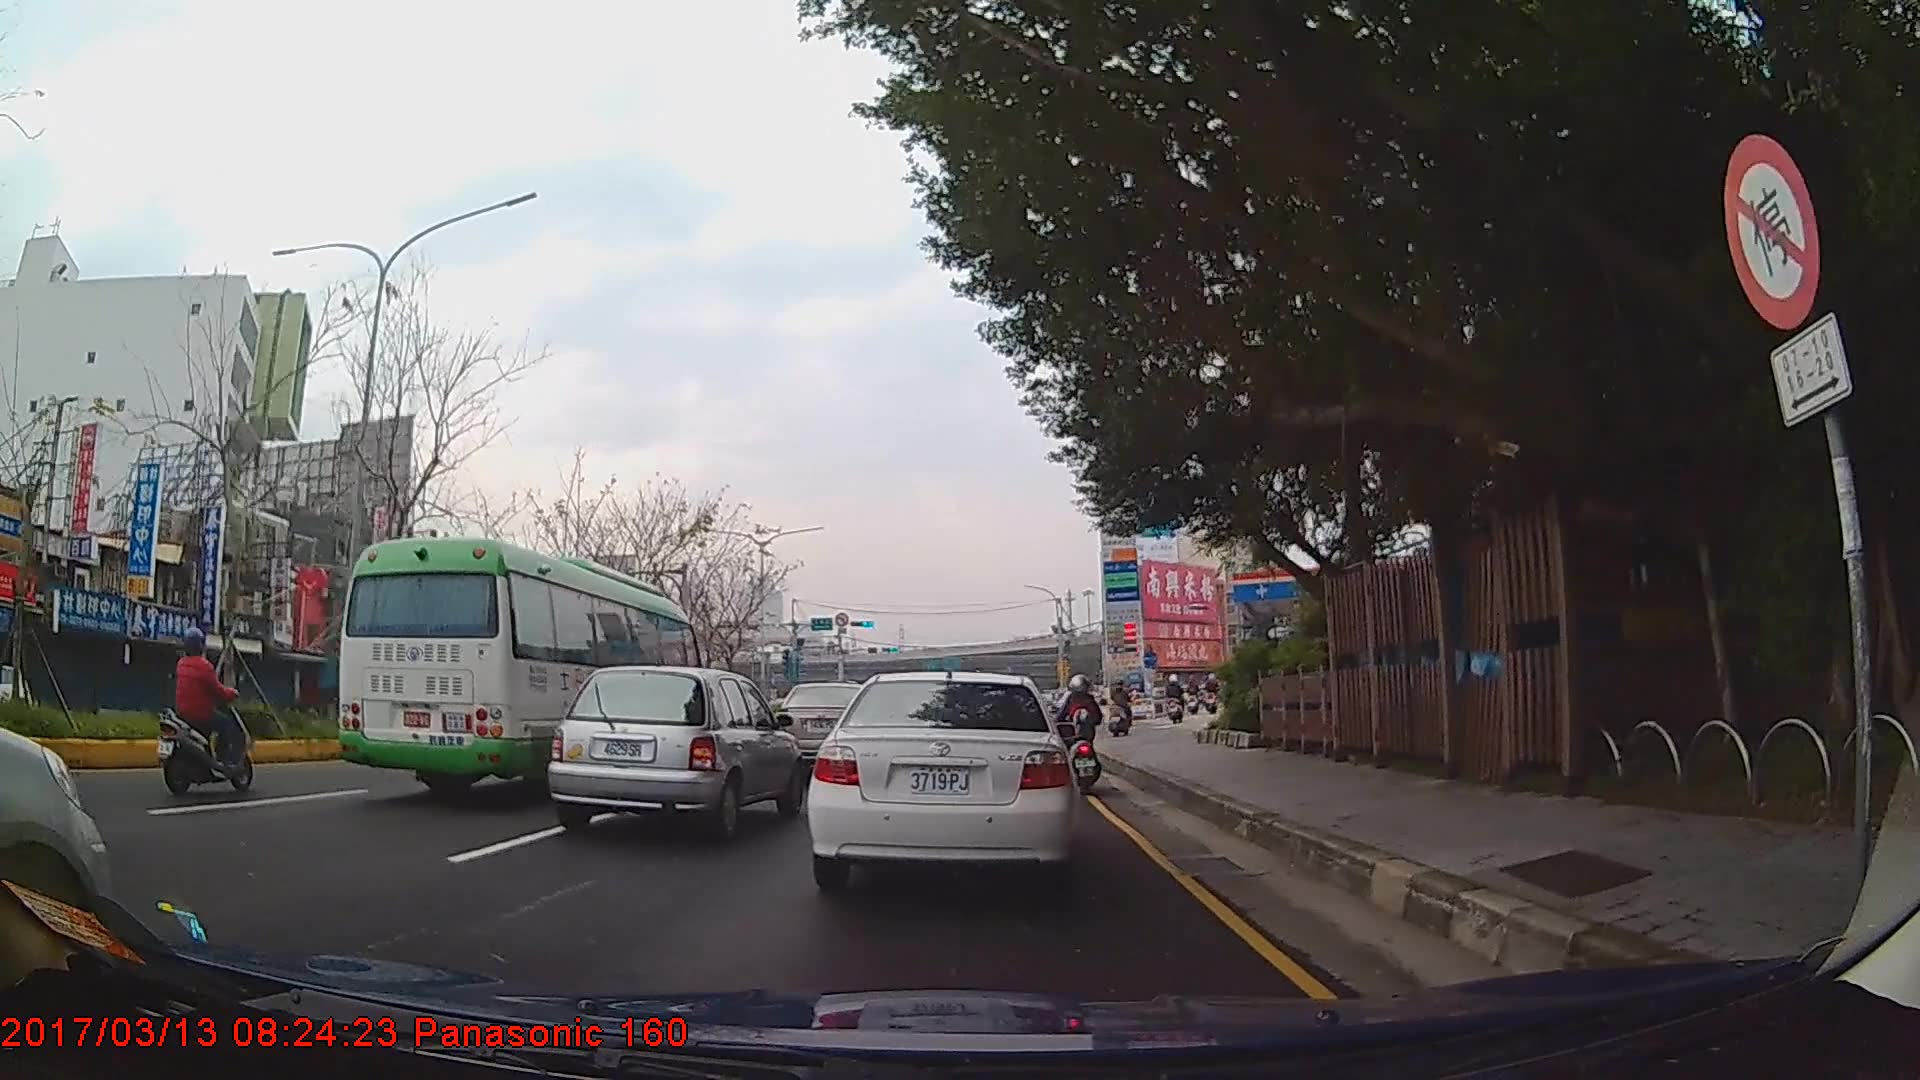rider: (161, 626, 259, 792), (1059, 672, 1102, 797), (1107, 675, 1136, 733), (1165, 674, 1186, 723)
vehicle: (337, 534, 703, 796), (805, 670, 1077, 894), (546, 660, 804, 836), (773, 679, 872, 770), (0, 659, 33, 725)
